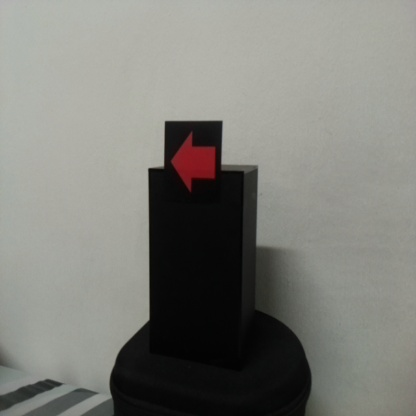id_4: (164, 122, 222, 203)
